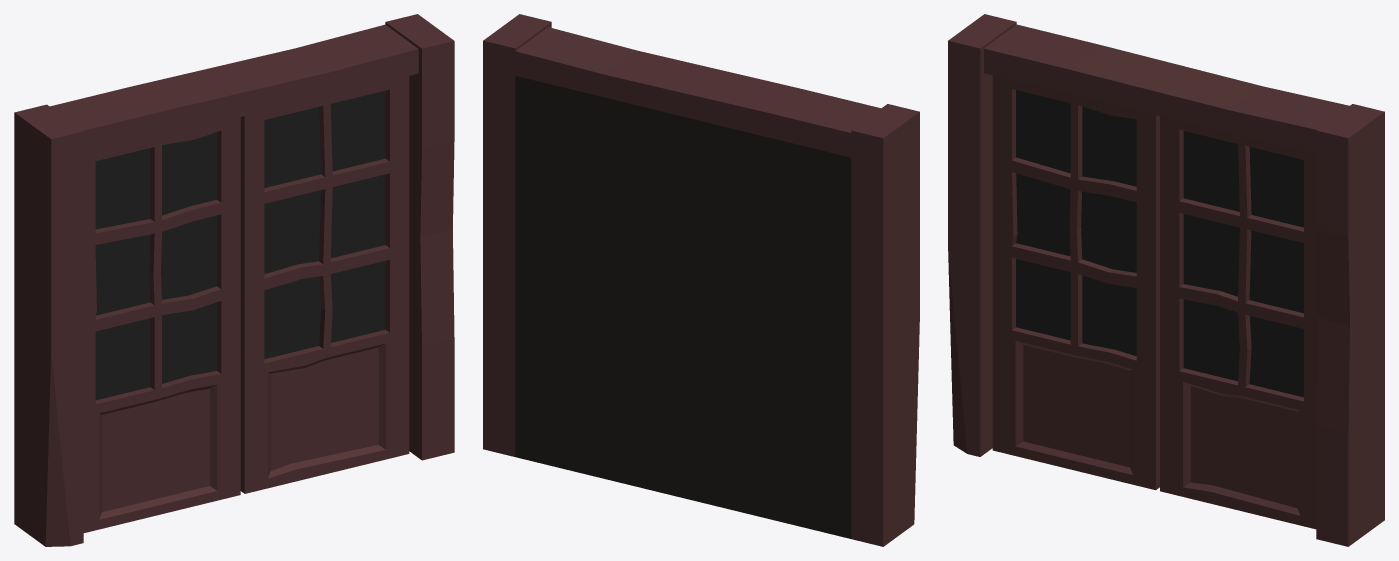
File: SM_Bld_House_Door_02.fbx
3 views of the same model, side by side, from view 1: azimuth 30°, elevation 25°; view 2: azimuth 150°, elevation 25°; view 3: azimuth 330°, elevation 25° (orthographic).
Visible parts, largest first — view 1: SM_Bld_House_Door_02; view 2: SM_Bld_House_Door_02; view 3: SM_Bld_House_Door_02.
Boxes of the visible parts, x1,y1,x2,y2 form: SM_Bld_House_Door_02: [14, 14, 454, 546]; SM_Bld_House_Door_02: [483, 14, 919, 546]; SM_Bld_House_Door_02: [948, 14, 1384, 546].
Size of the model in its own units: 2.27 by 2.21 by 0.3572.
